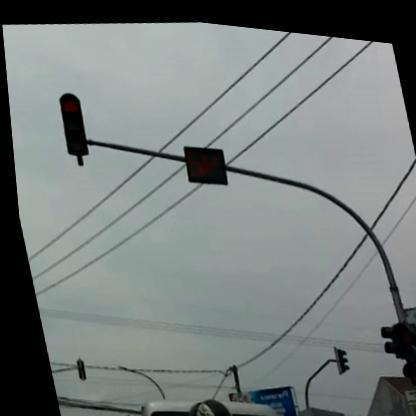red: (53, 90, 89, 158), (384, 307, 415, 377)
